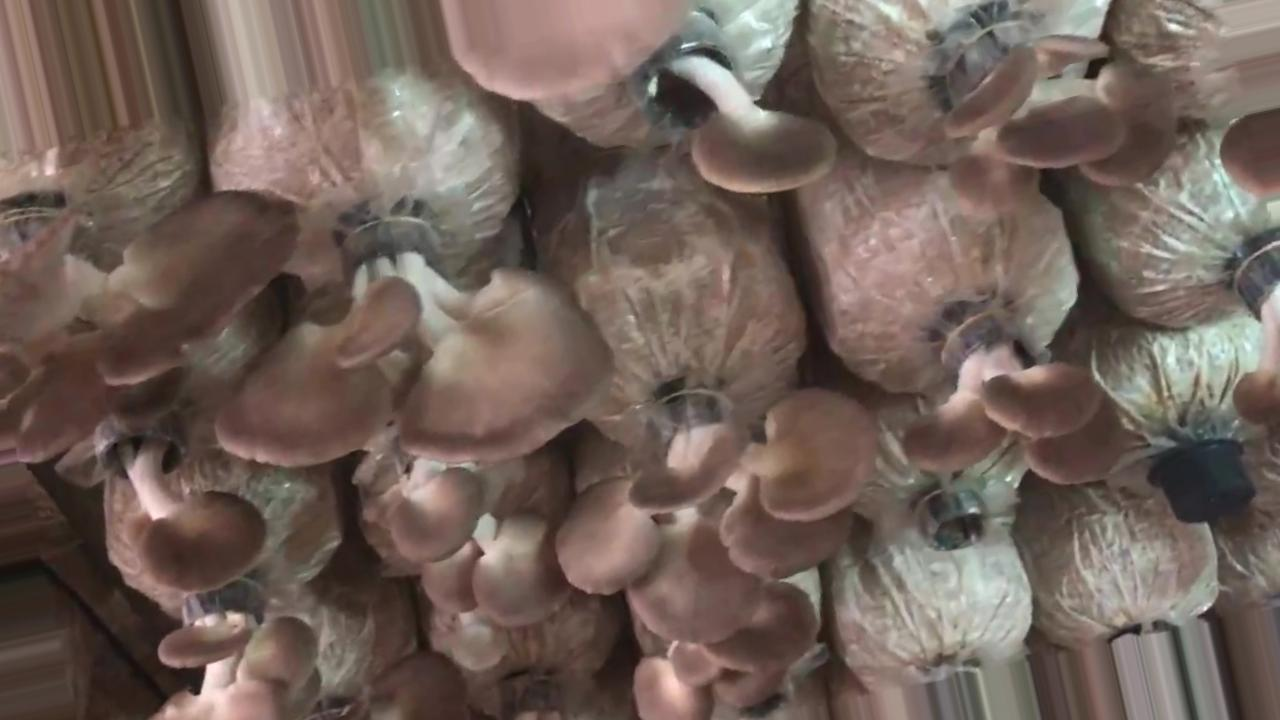nam: (218, 217, 607, 466), (556, 388, 876, 644), (1, 190, 299, 459), (938, 12, 1174, 210), (634, 2, 834, 200), (903, 311, 1124, 482), (90, 408, 266, 590), (393, 459, 573, 624), (631, 585, 819, 720), (156, 591, 324, 720), (1235, 238, 1280, 420), (1222, 106, 1279, 192)
